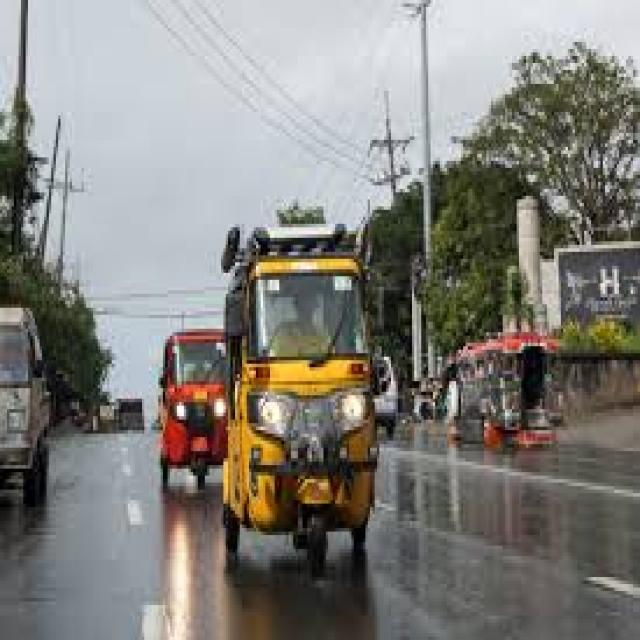three wheeler: (223, 224, 375, 574), (161, 332, 223, 490)
van: (0, 308, 49, 507)
